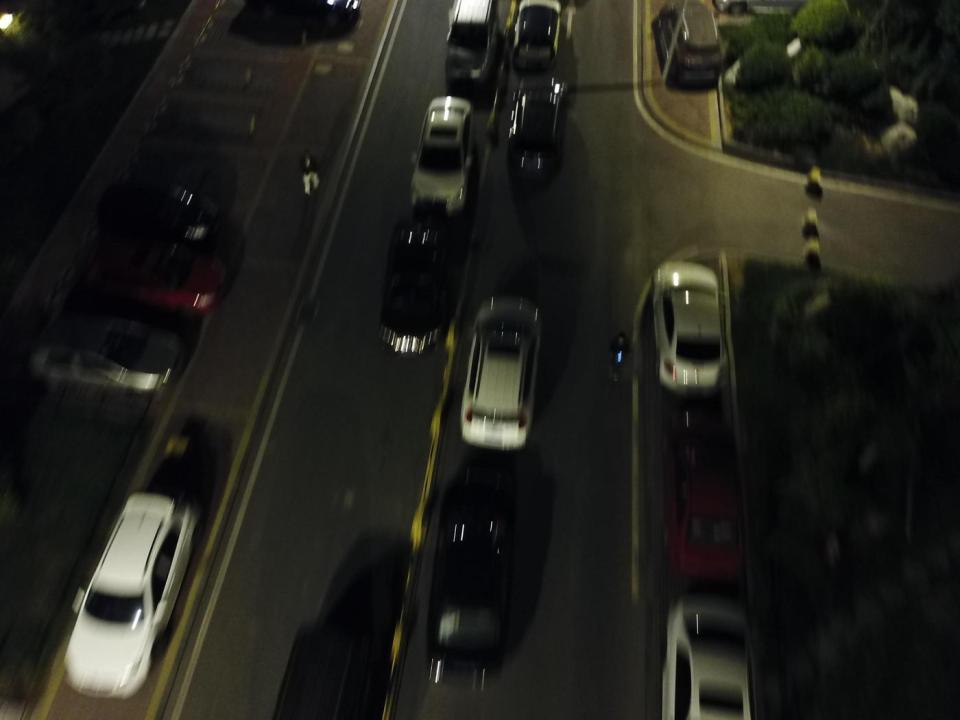car: (62, 492, 207, 700), (429, 478, 517, 672), (33, 314, 184, 404), (663, 417, 743, 579), (461, 294, 539, 453), (660, 592, 753, 720), (86, 242, 234, 320), (648, 259, 726, 400), (269, 626, 375, 720), (380, 219, 449, 349), (406, 96, 476, 219), (96, 180, 218, 247), (508, 76, 568, 184), (444, 0, 500, 87), (511, 0, 565, 73)
van: (654, 0, 722, 90)
